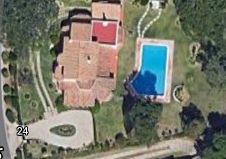pool: (140, 43, 164, 92)
